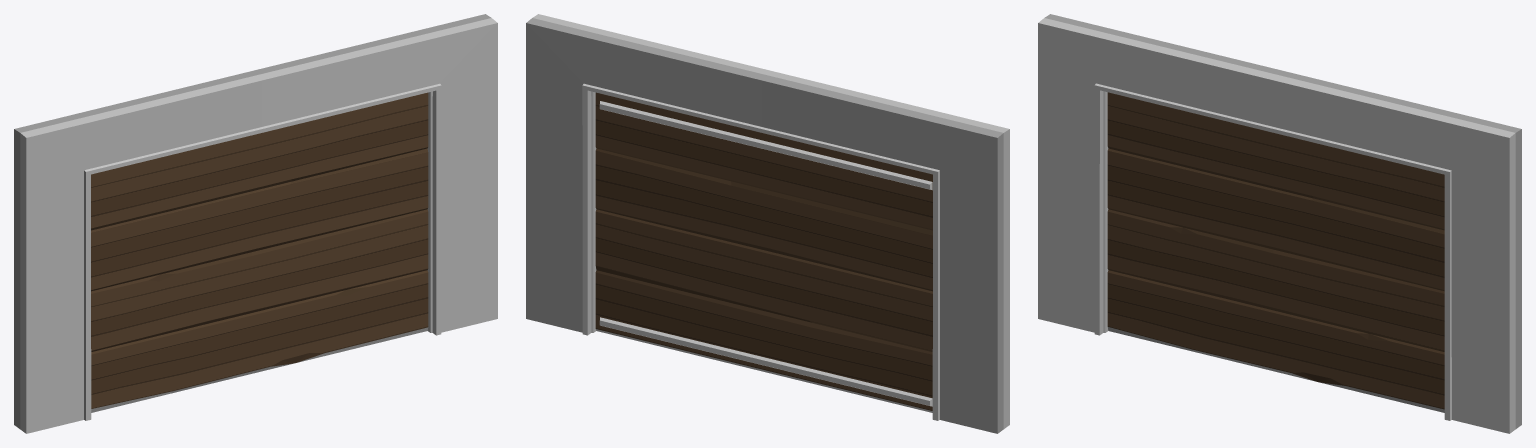
File: SM_Bld_Wall_Door_Garage_01.fbx
The picture shows the model from 3 angles, left to right: view 1: azimuth 30°, elevation 25°; view 2: azimuth 150°, elevation 25°; view 3: azimuth 330°, elevation 25°; orthographic projection.
Visible parts, largest first — view 1: SM_Bld_Wall_Door_Garage_01_Door, SM_Bld_Wall_Door_Garage_01; view 2: SM_Bld_Wall_Door_Garage_01_Door, SM_Bld_Wall_Door_Garage_01; view 3: SM_Bld_Wall_Door_Garage_01_Door, SM_Bld_Wall_Door_Garage_01.
Part boxes in pixels (x1,y1,x2,y2): SM_Bld_Wall_Door_Garage_01_Door: (91, 92, 428, 412); SM_Bld_Wall_Door_Garage_01: (14, 14, 497, 433); SM_Bld_Wall_Door_Garage_01_Door: (595, 92, 932, 412); SM_Bld_Wall_Door_Garage_01: (526, 14, 1009, 433); SM_Bld_Wall_Door_Garage_01_Door: (1107, 92, 1444, 412); SM_Bld_Wall_Door_Garage_01: (1038, 14, 1521, 433).
Bounding box in the file's own units: 500 × 301 × 28.8.
